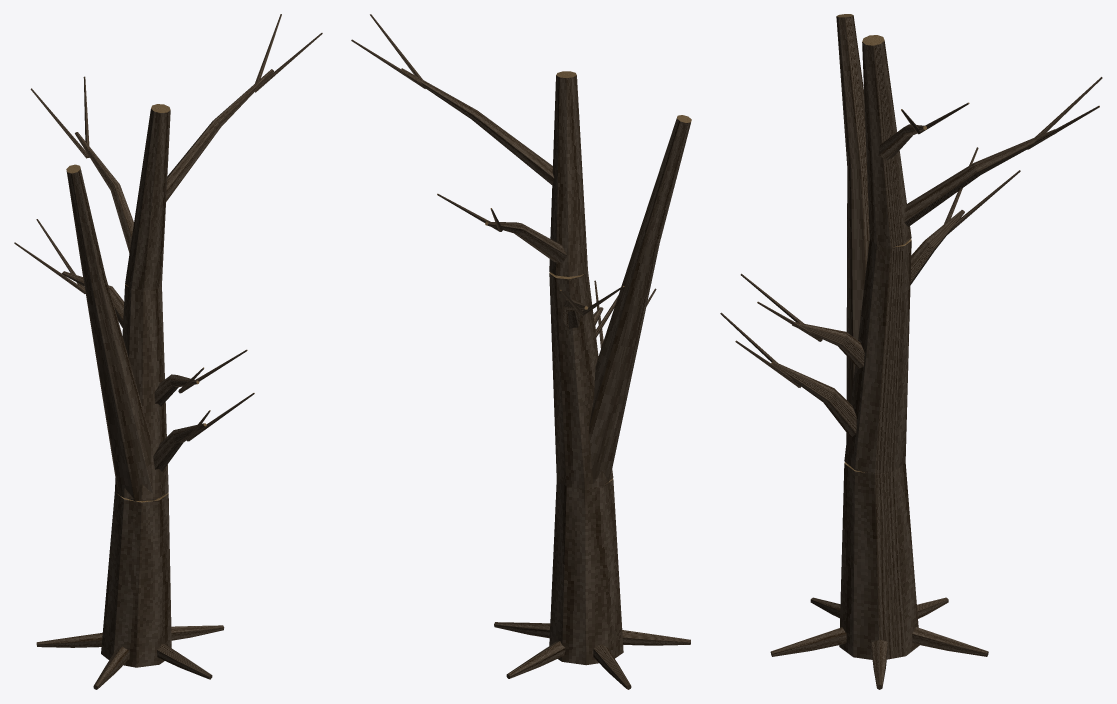
File: env_trees_02_forked_dead.glb
The picture shows the model from 3 angles, left to right: view 1: azimuth 30°, elevation 25°; view 2: azimuth 150°, elevation 25°; view 3: azimuth 270°, elevation 25°; orthographic projection. The views are drawn at different scales.
Visible parts, largest first — view 1: solid; view 2: solid; view 3: solid.
Boxes of the visible parts, x1,y1,x2,y2 form: solid: (14,14,322,689); solid: (351,14,691,689); solid: (720,14,1102,689).
Bounding box in the file's own units: 2.34 × 4.5 × 2.43.
1 material, 1 textured.
